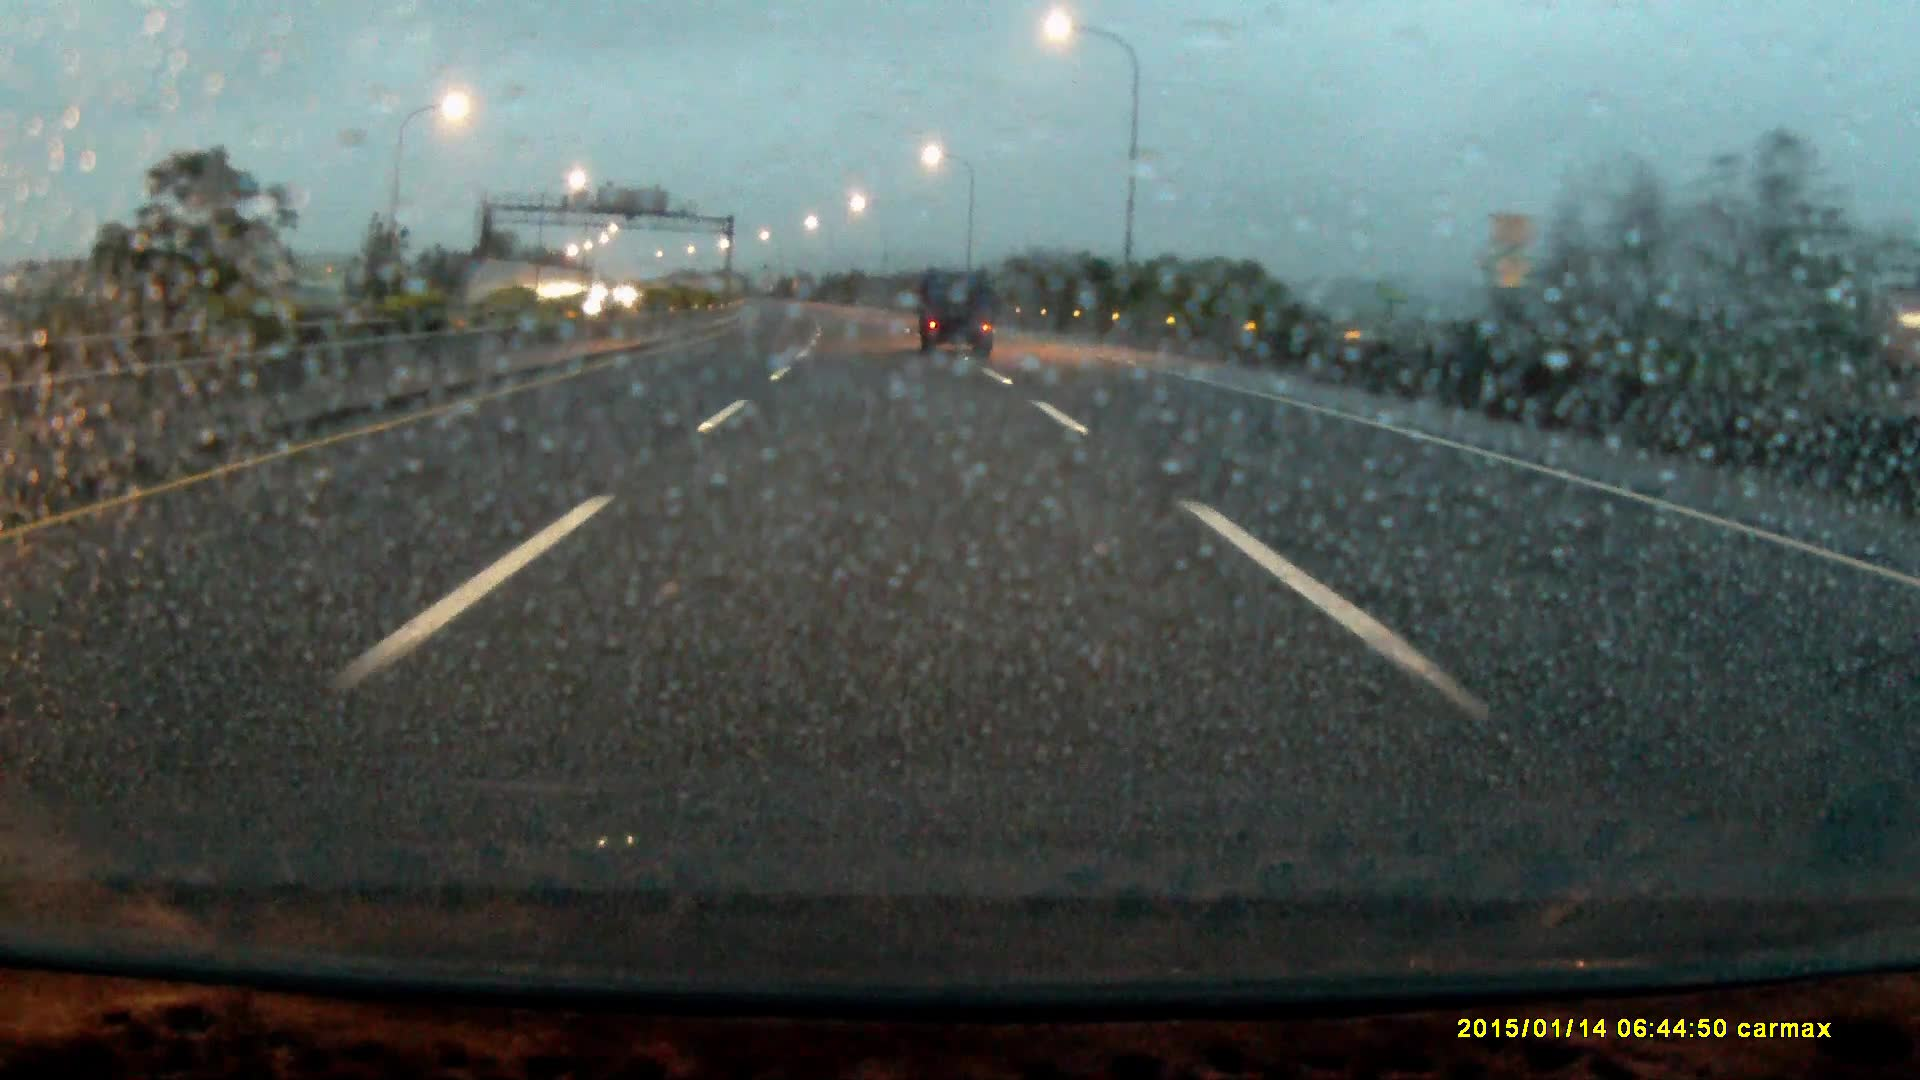vehicle: (918, 272, 1000, 356)
